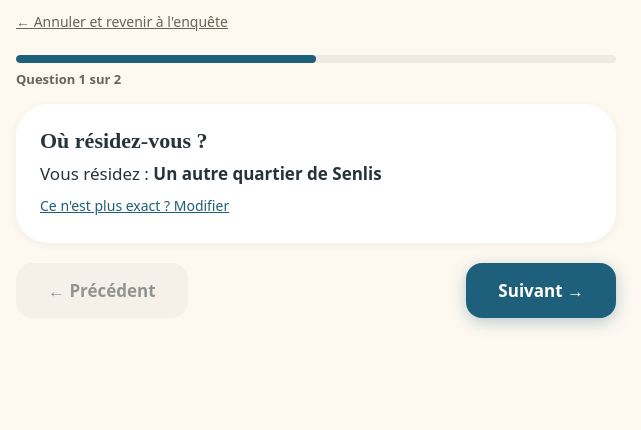
Test: Questionnaire et profil (recette du 24/11) › réponse identique au profil : pas de rafraîchissement ni de message
Expected: the text "Un autre quartier de Senlis" is shown, [153,162,382,185]
Click the button "Suivant →" at (541,290), box [466,263,616,318]
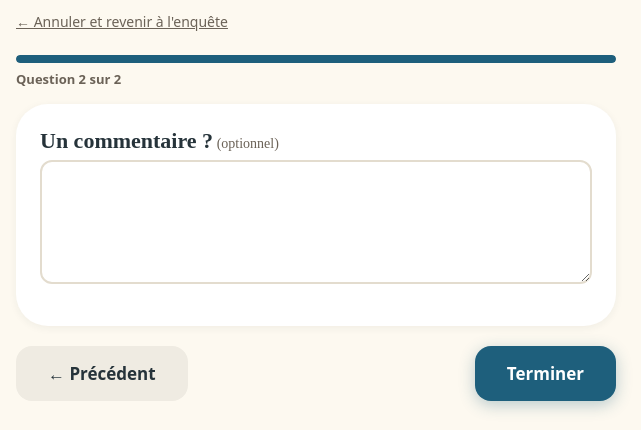
Expected: the heading "Un commentaire ? (optionnel)" is shown, [39,127,279,153]
Click the button "Terminer" at (545,373), box [475,346,616,401]
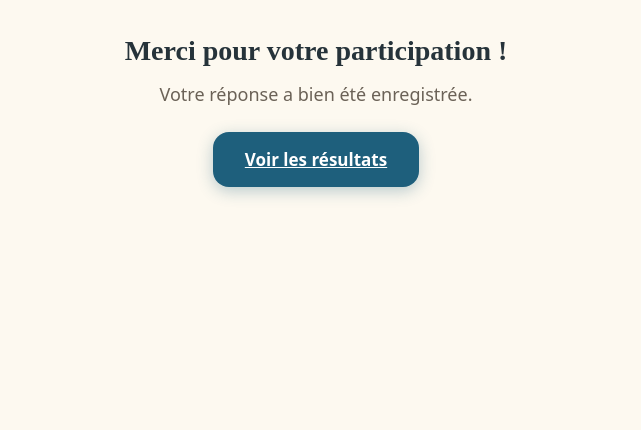
Expected: the heading "Merci pour votre participation !" is shown, [125,35,507,66]
